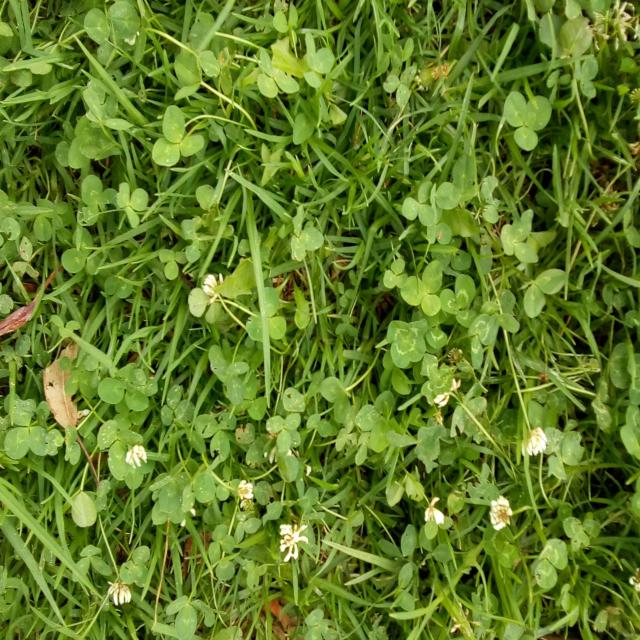Four Leaf Clover: (354, 392, 404, 451), (387, 318, 427, 368)
